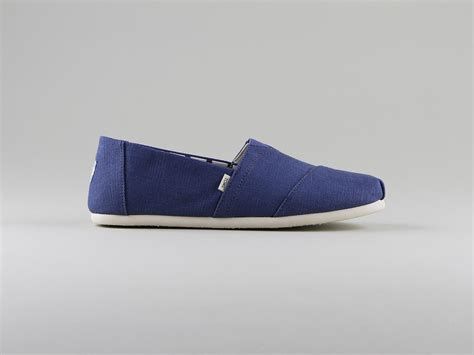nylon: (87, 135, 387, 219)
